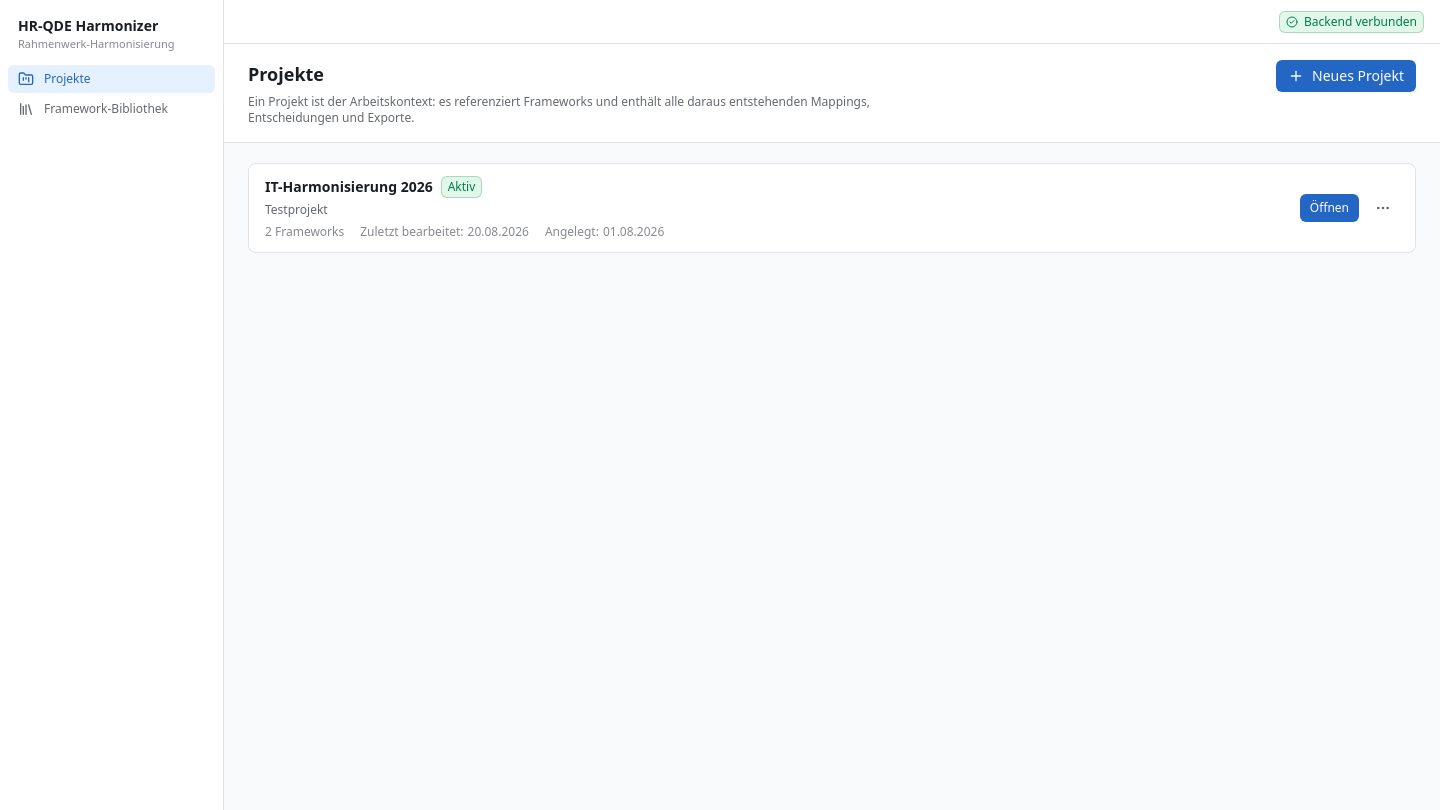
Projekt öffnen › listet Projekte und zeigt nach dem Öffnen die Projektübersicht
Expected: the link "IT-Harmonisierung 2026" is shown, x1=265 y1=177 x2=433 y2=197
Click the link "Öffnen" at {"x": 1329, "y": 208}, box x1=1300 y1=194 x2=1359 y2=222
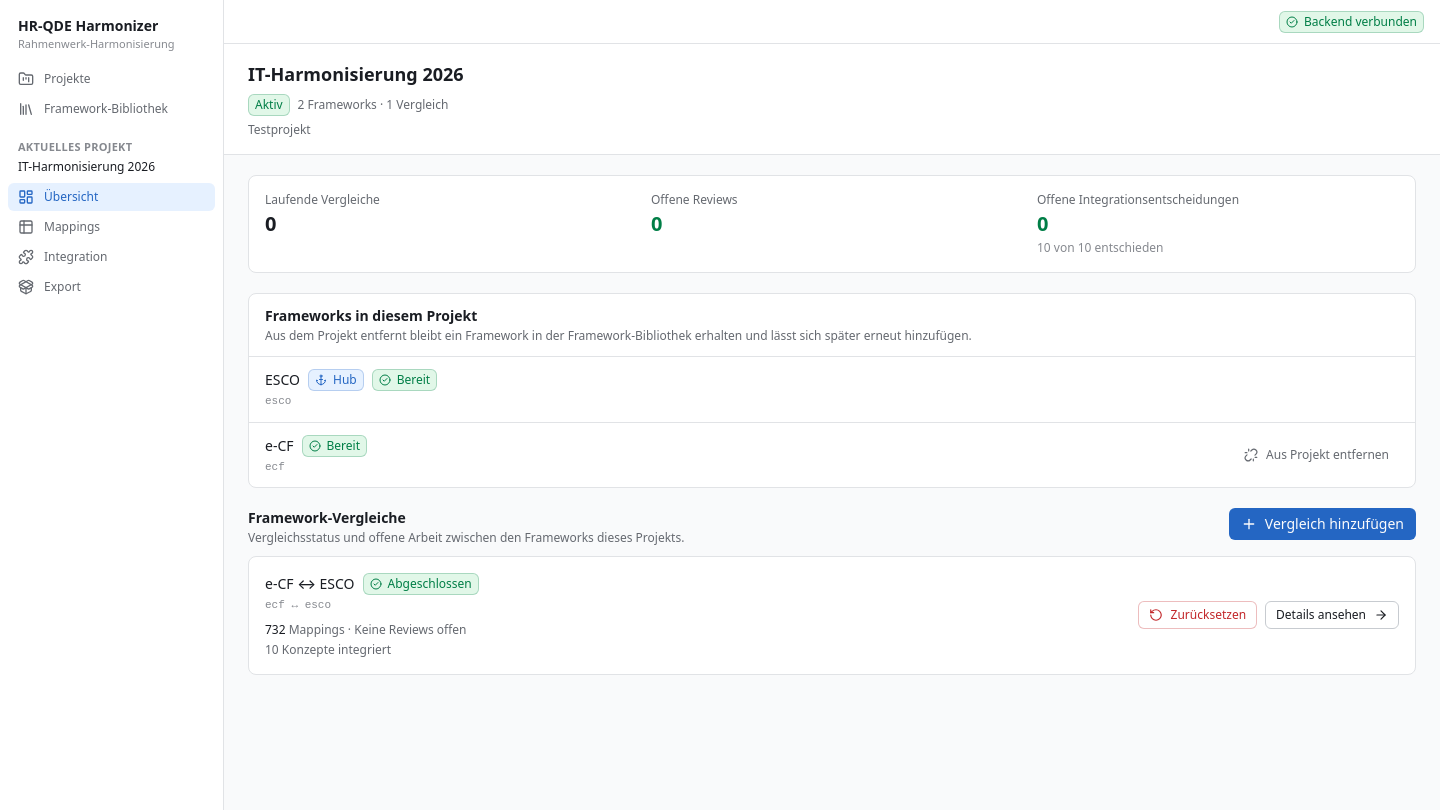
Result: the heading "IT-Harmonisierung 2026" is shown at x1=248 y1=60 x2=464 y2=88
Result: the link "e-CF ↔ ESCO" is shown at x1=265 y1=574 x2=354 y2=594
